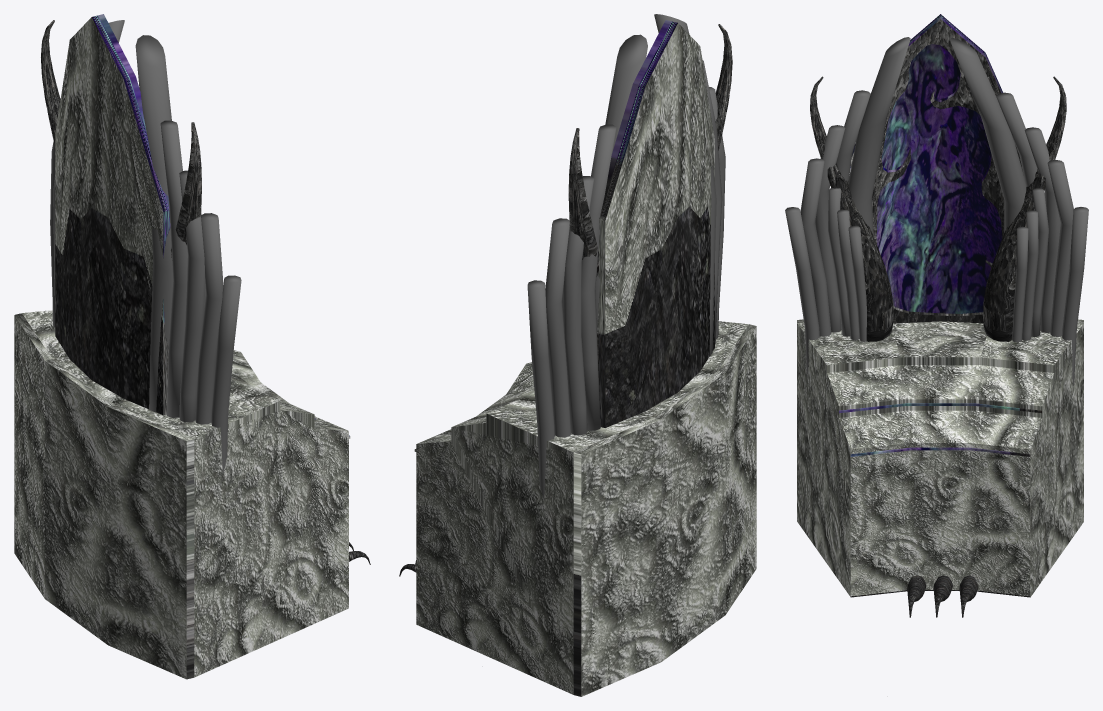
The model's file is Organ_Mobile 1.fbx.
3 views of the same model, side by side, from view 1: azimuth 30°, elevation 25°; view 2: azimuth 150°, elevation 25°; view 3: azimuth 270°, elevation 25° (orthographic). The views are drawn at different scales.
Visible parts, largest first — view 1: Main_Console; view 2: Main_Console; view 3: Main_Console.
Part boxes in pixels (bbox=[...]): Main_Console: bbox=[14, 14, 370, 679]; Main_Console: bbox=[399, 14, 756, 696]; Main_Console: bbox=[785, 14, 1088, 617].
Bounding box in the file's own units: 148 × 363 × 169.
